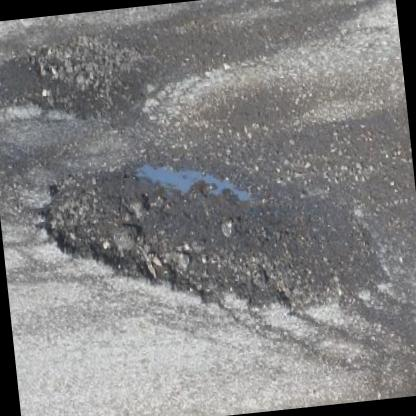pothole: (35, 138, 389, 340), (12, 23, 154, 132)
